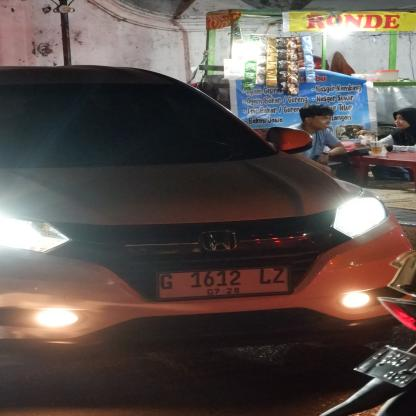Plat-Nomor: (152, 262, 297, 304)
